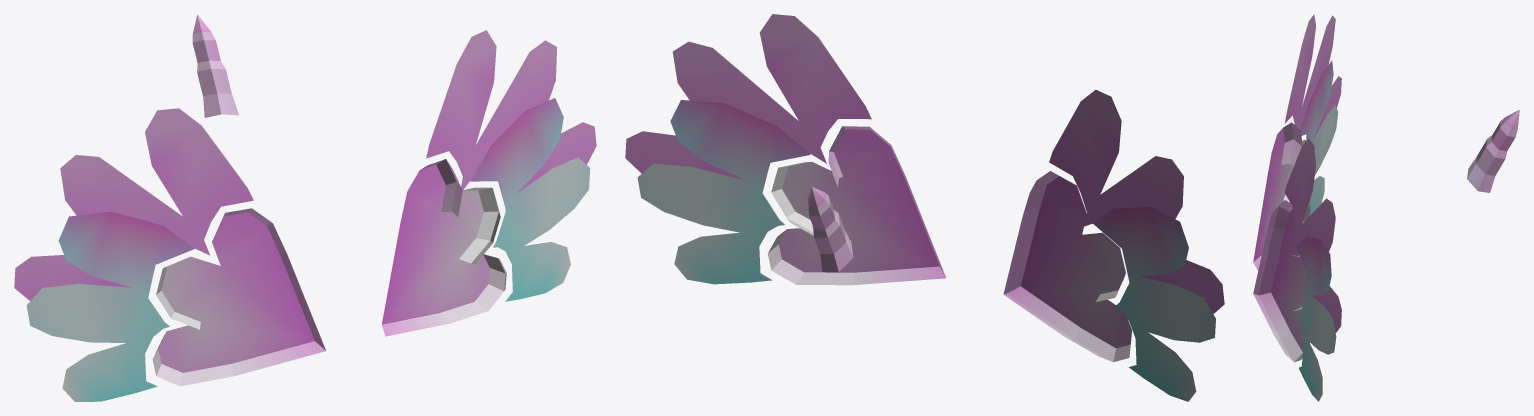
Rendered from hat_premium_UnicornWings.glb.
3 views of the same model, side by side, from view 1: azimuth 30°, elevation 25°; view 2: azimuth 150°, elevation 25°; view 3: azimuth 270°, elevation 25° (orthographic). The views are drawn at different scales.
Parts seen in each view (by area): view 1: hat_premium_UnicornWings; view 2: hat_premium_UnicornWings; view 3: hat_premium_UnicornWings.
Boxes of the visible parts, bbox=[...] form: hat_premium_UnicornWings: bbox=[14, 14, 596, 401]; hat_premium_UnicornWings: bbox=[625, 14, 1224, 401]; hat_premium_UnicornWings: bbox=[1253, 14, 1519, 401].
Size of the model in its own units: 0.786 by 0.3567 by 0.3805.
